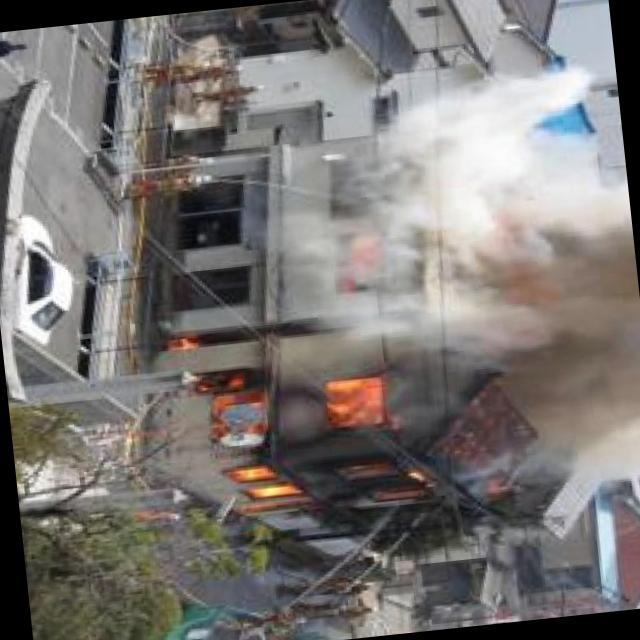Fire: (150, 303, 460, 558)
